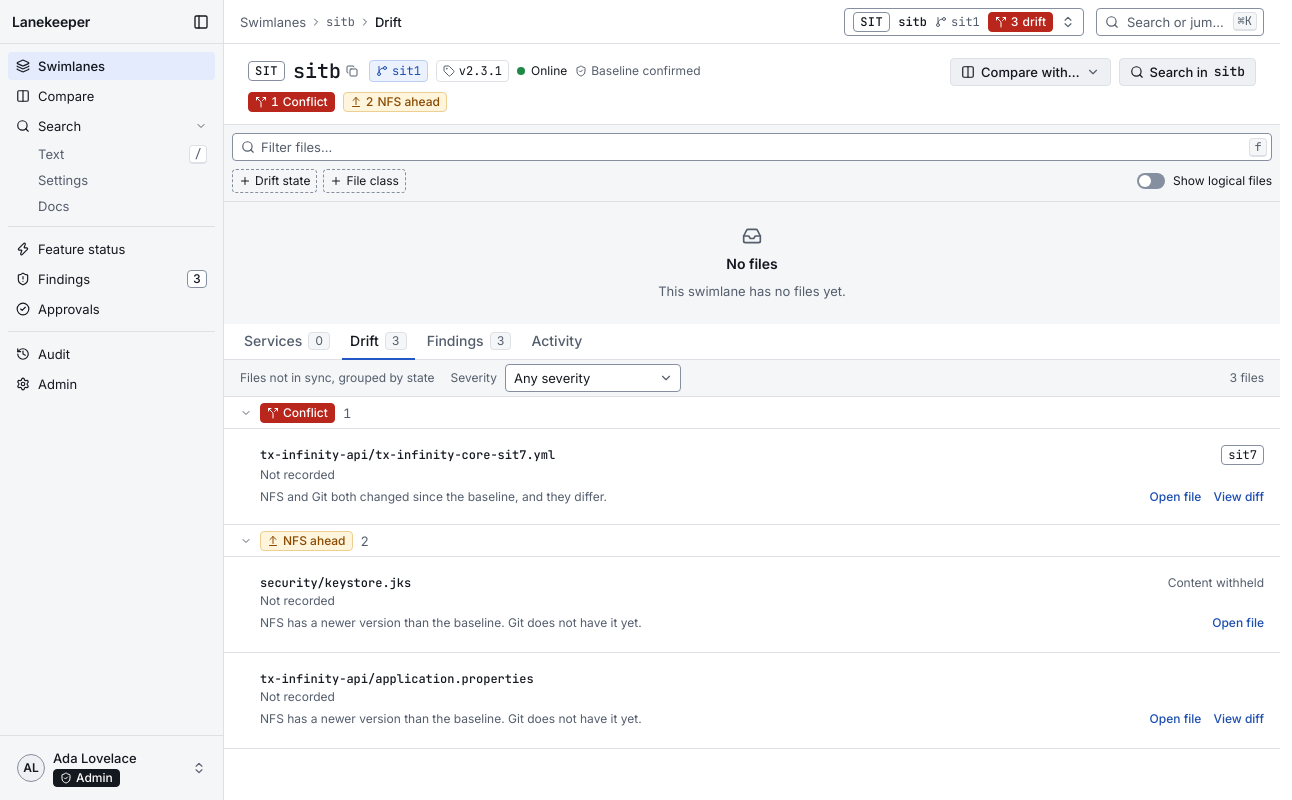
Test case: the Drift tab › closes a group and opens it again
Step 1. Click the button "NFS ahead 2" → [306, 540], box [224,525,1280,557]
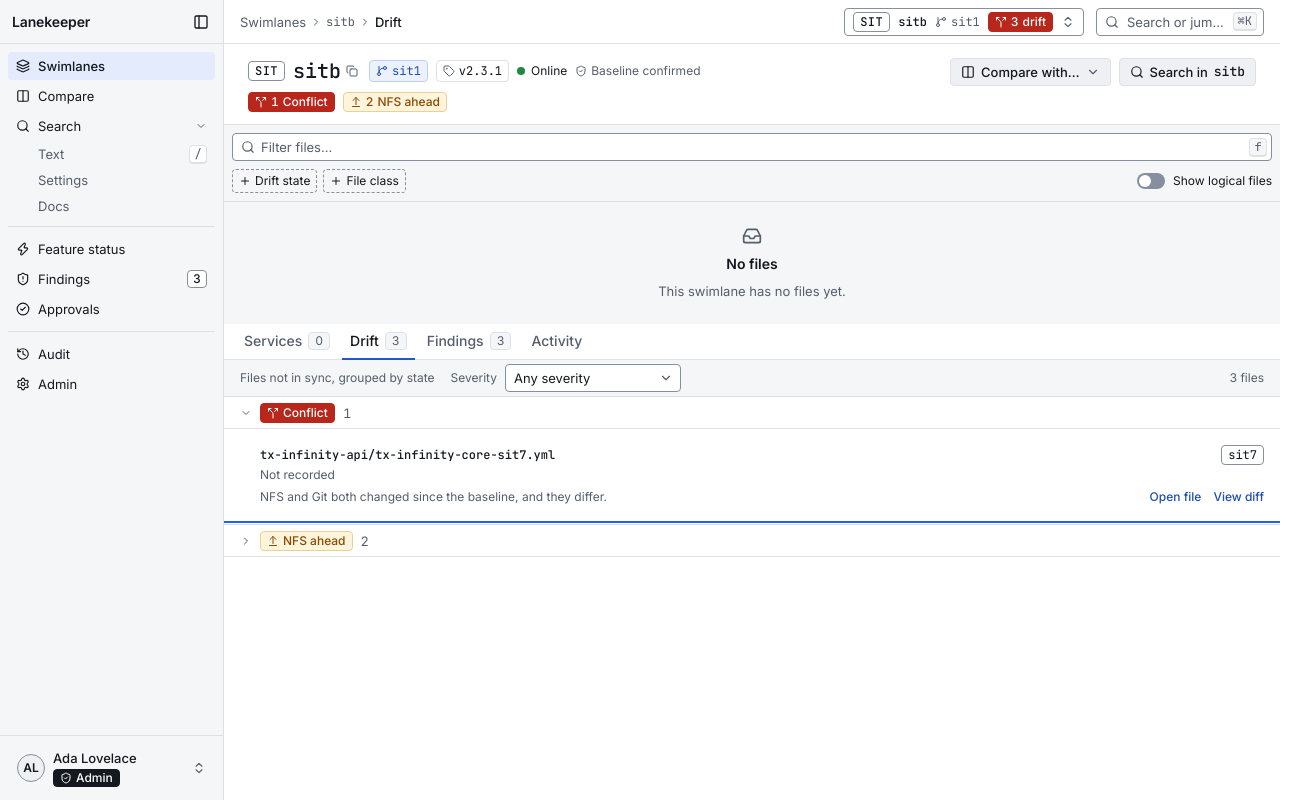
Expected: the text "tx-infinity-api/application.properties" is gone
Step 2. Click the button "NFS ahead 2" → [306, 540], box [224,525,1280,557]
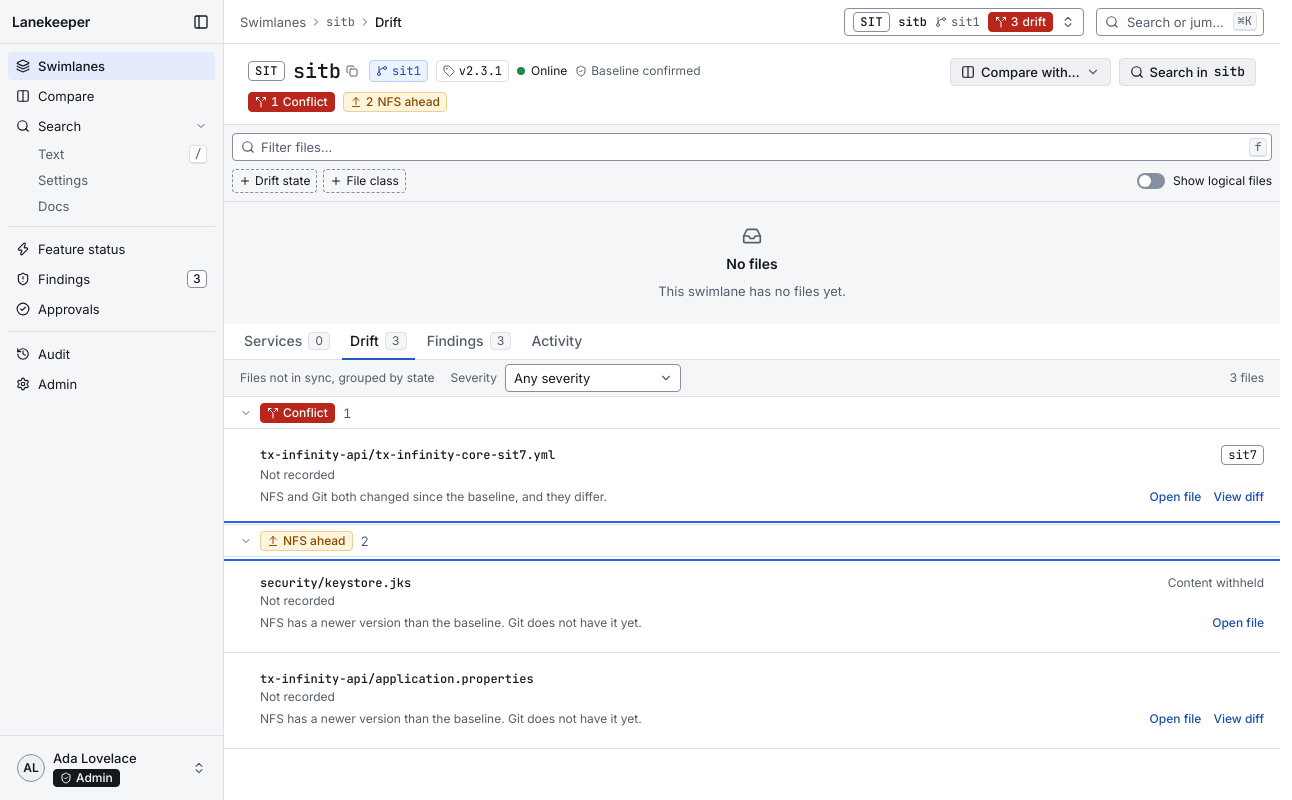
Expected: the text "tx-infinity-api/application.properties" is shown, [260,670,534,686]
